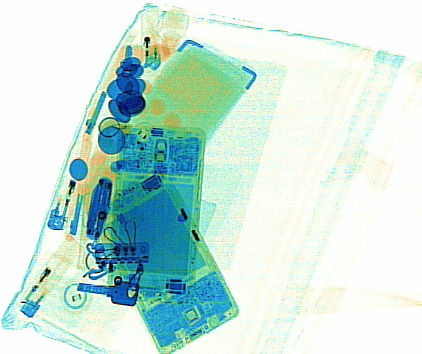lighter: (17, 232, 81, 318), (45, 144, 91, 229), (136, 6, 162, 70)
